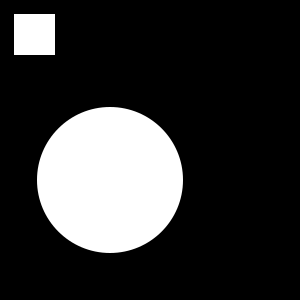circle: (14, 14, 55, 55)
rectangle: (37, 107, 183, 253)
